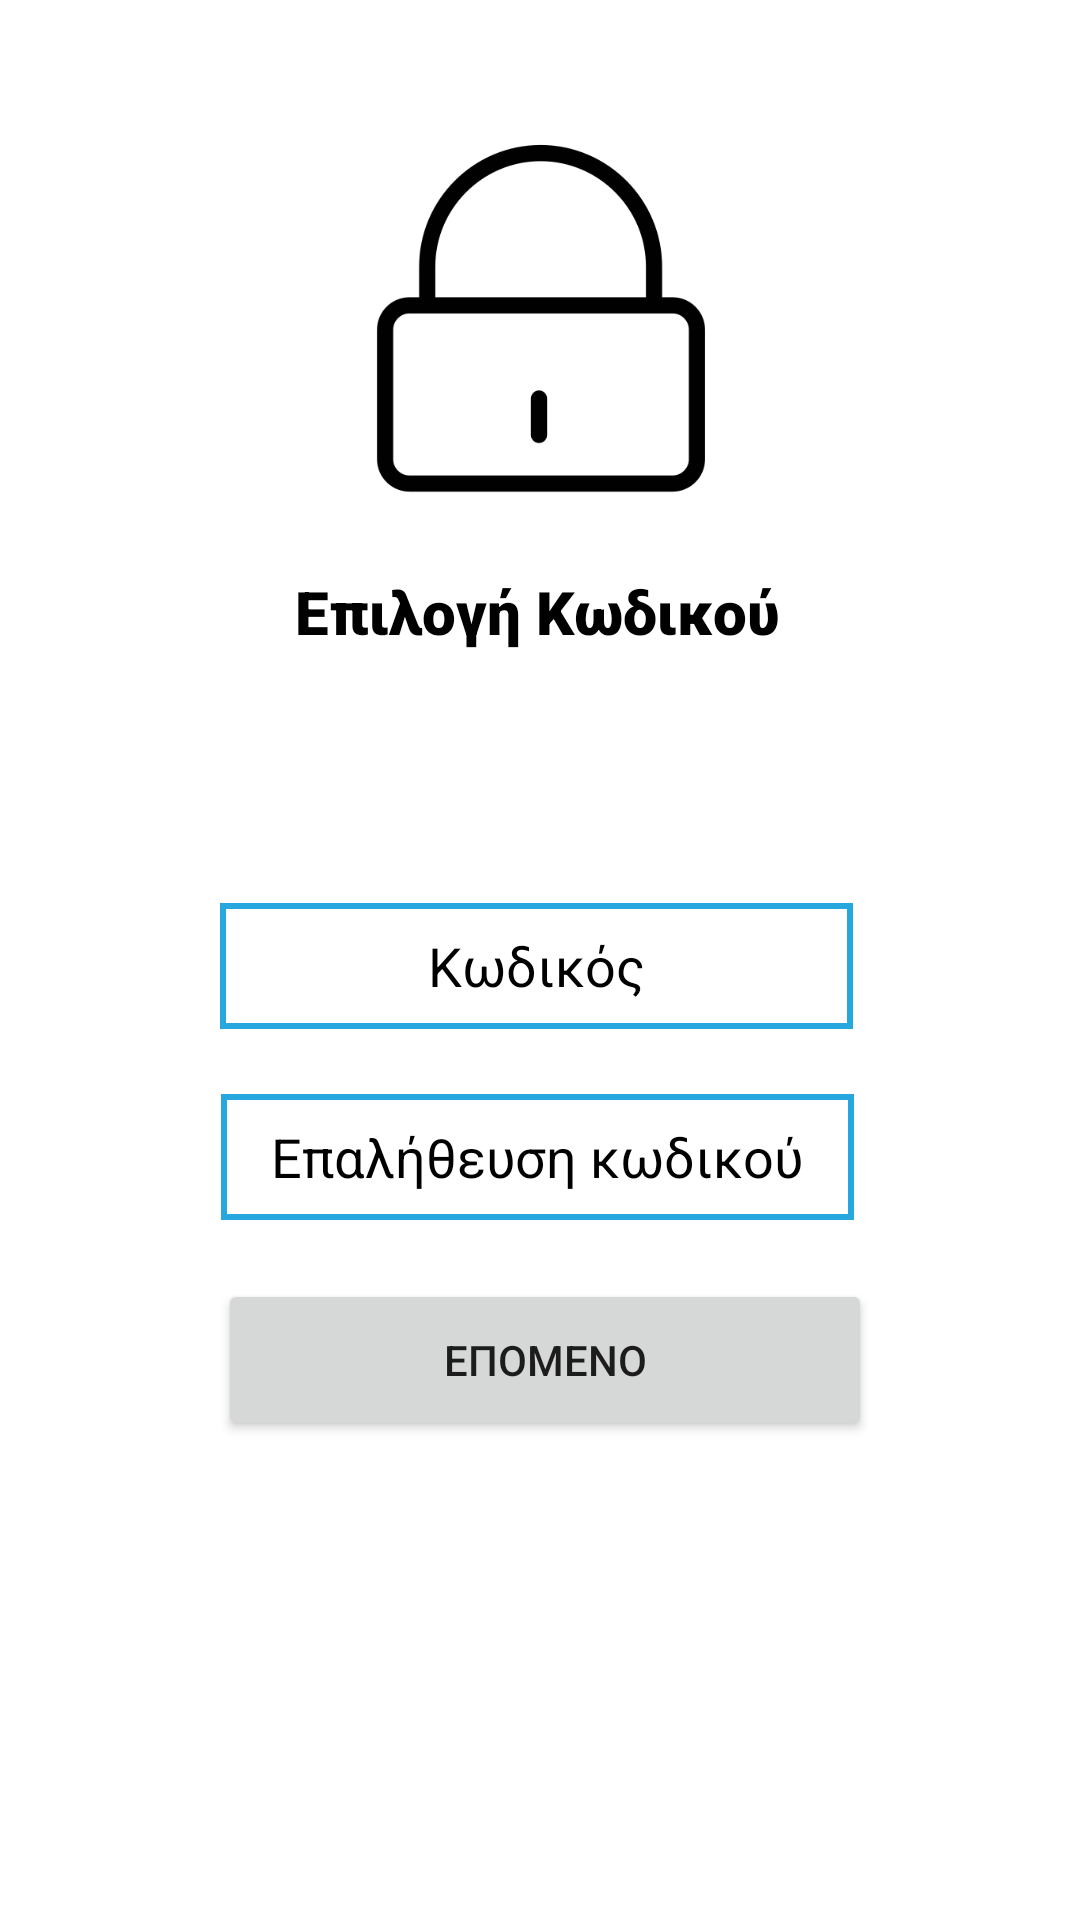

Icon bounding boxes for this 1080px×1920px phone screenshot, format box=[x1, y1, x2, y2]:
lockicon: box=[377, 145, 705, 492]
